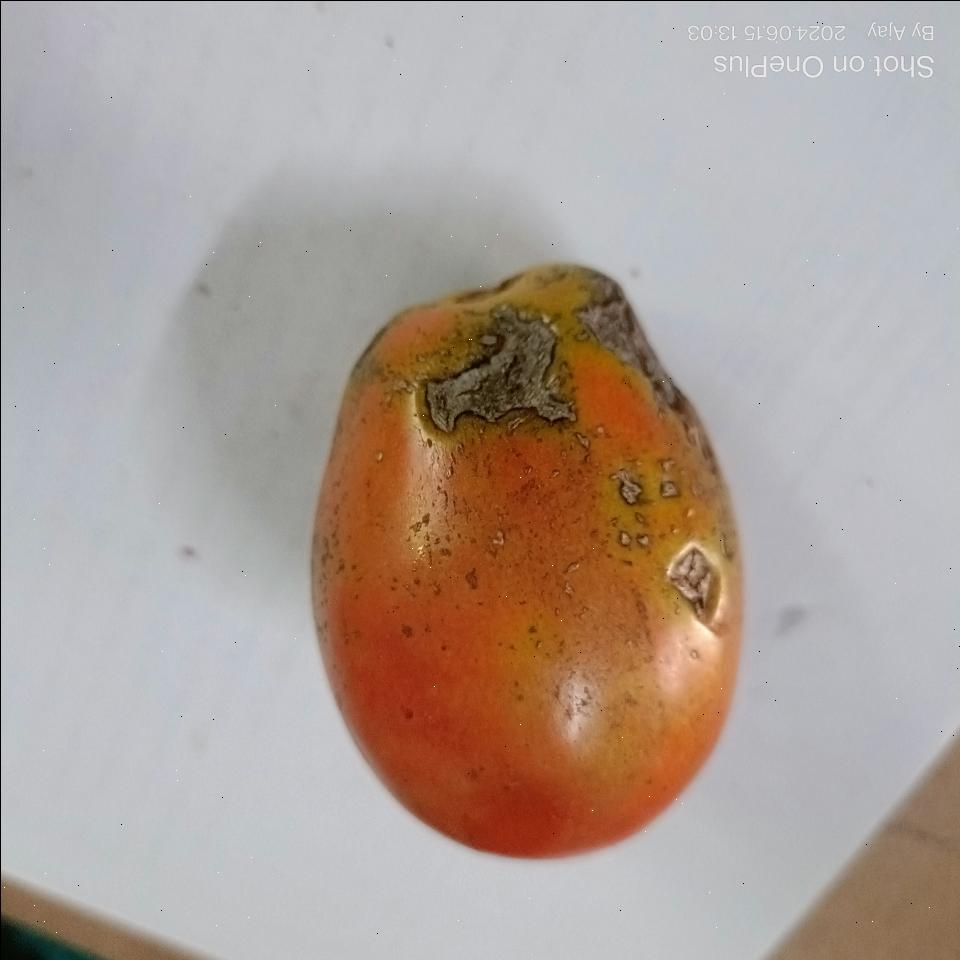Bacterial_Spot: (412, 306, 586, 460), (659, 544, 730, 628), (596, 303, 646, 363), (647, 387, 688, 430), (609, 464, 645, 507)
